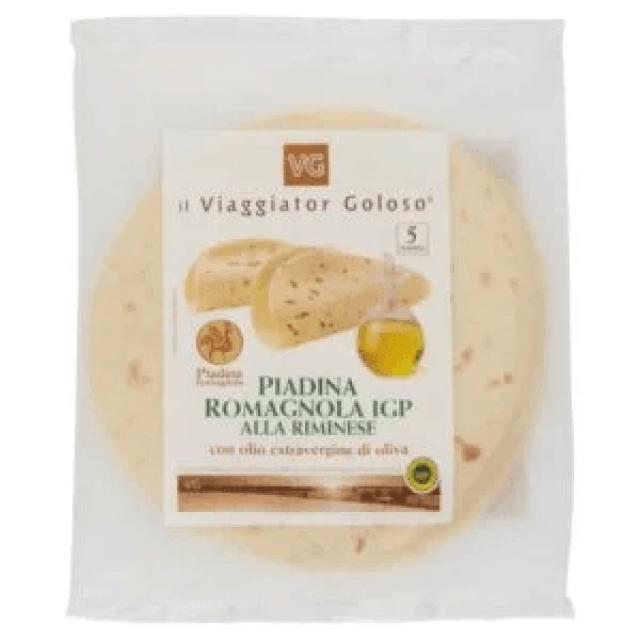Bread loaf: (64, 17, 574, 620)
